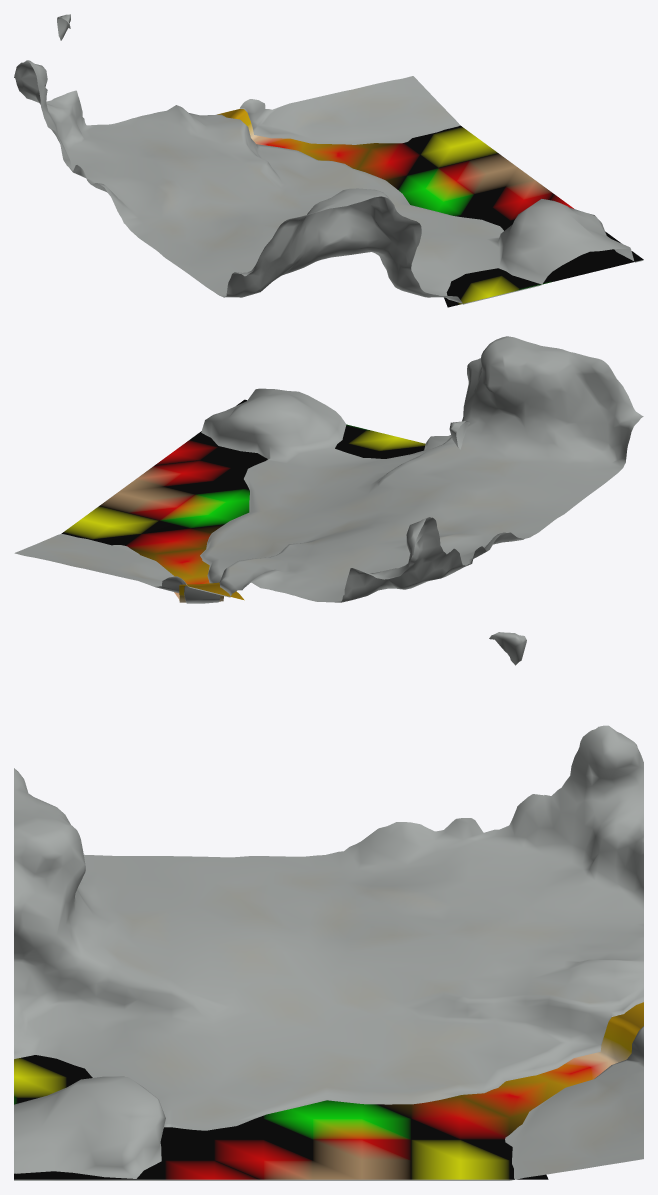
3 renders of one model, top to bottom at view 1: azimuth 30°, elevation 25°; view 2: azimuth 150°, elevation 25°; view 3: azimuth 270°, elevation 25°, orthographic. The views are drawn at different scales.
Visible parts, largest first — view 1: G:\FFXIV-MapTools\exports\l1f1\bg\ffxiv\lak_l1\fld\l1f1\bgpl (×13); view 2: G:\FFXIV-MapTools\exports\l1f1\bg\ffxiv\lak_l1\fld\l1f1\bgpl (×14); view 3: G:\FFXIV-MapTools\exports\l1f1\bg\ffxiv\lak_l1\fld\l1f1\bgpl (×14).
Part boxes in pixels (x1,y1,x2,y2): G:\FFXIV-MapTools\exports\l1f1\bg\ffxiv\lak_l1\fld\l1f1\bgpl (×13): (14,14,643,307); G:\FFXIV-MapTools\exports\l1f1\bg\ffxiv\lak_l1\fld\l1f1\bgpl (×14): (14,336,643,603); G:\FFXIV-MapTools\exports\l1f1\bg\ffxiv\lak_l1\fld\l1f1\bgpl (×14): (14,632,643,1180).
Size of the model in its own units: 128 by 63.52 by 128.
